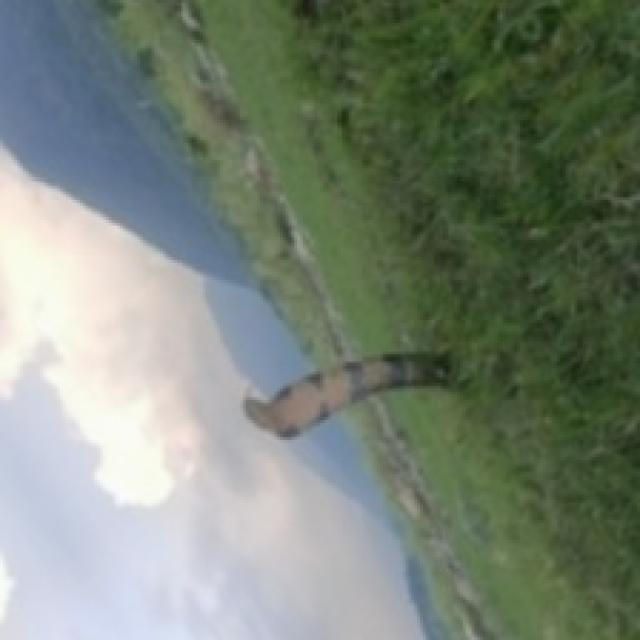king cobra: (246, 354, 446, 434)
